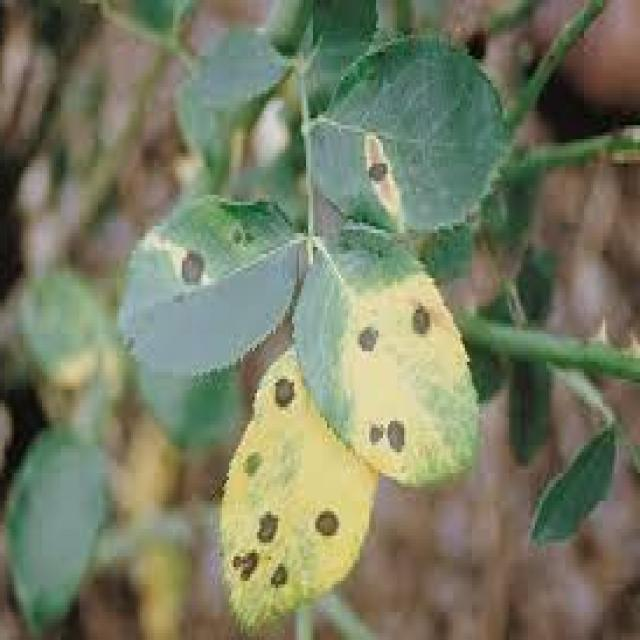black-spot: (283, 302, 454, 534)
